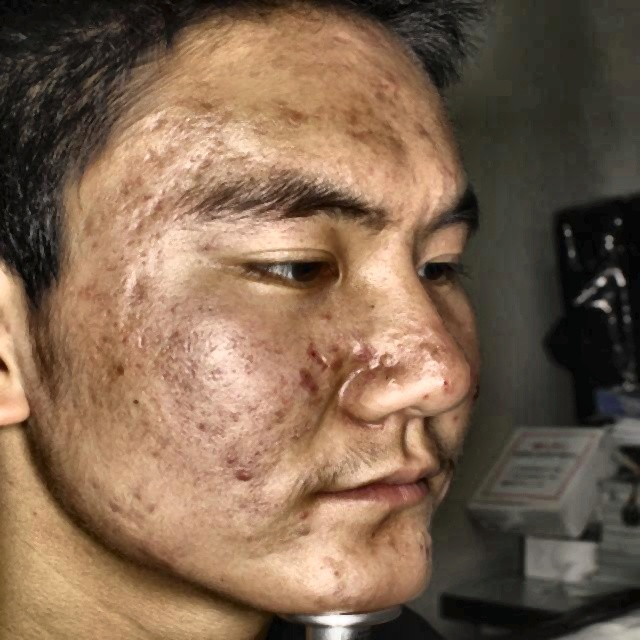pustule: (412, 529, 437, 564), (296, 370, 325, 400), (437, 162, 470, 188), (346, 337, 380, 362), (374, 66, 402, 95), (281, 105, 305, 138), (320, 346, 346, 374), (227, 464, 259, 486), (295, 515, 317, 543), (325, 560, 355, 577)
